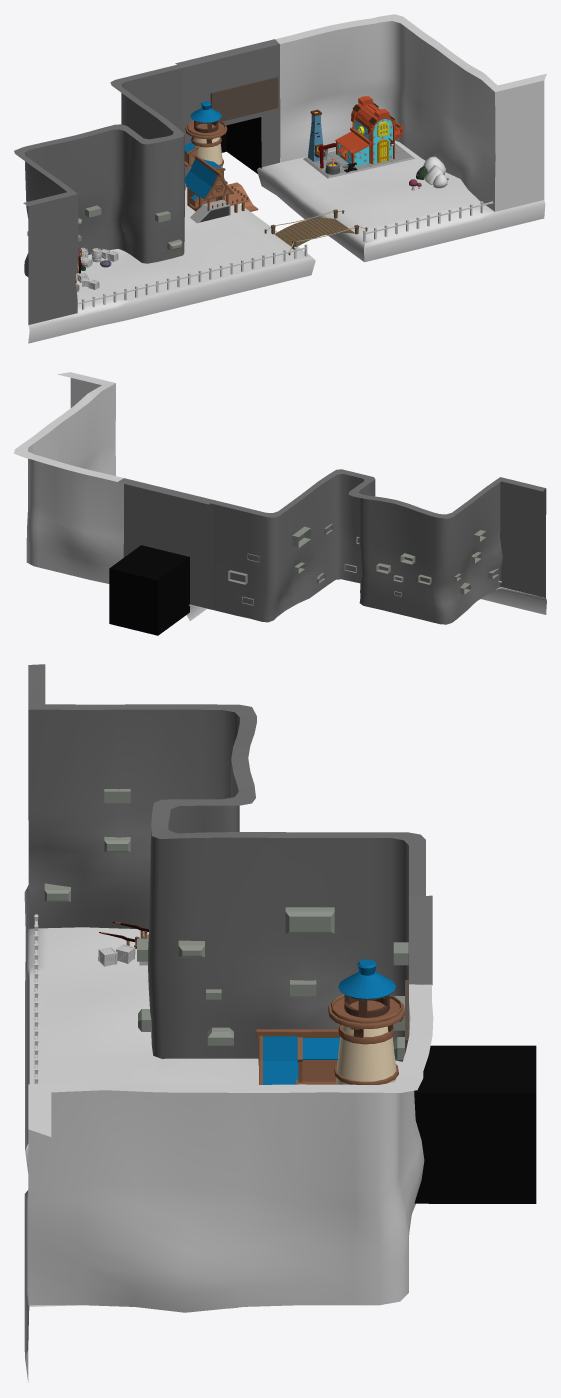
File: CenaPrincipal.fbx
3 renders of one model, top to bottom at view 1: azimuth 30°, elevation 25°; view 2: azimuth 150°, elevation 25°; view 3: azimuth 270°, elevation 25°, orthographic. The views are drawn at different scales.
Parts seen in each view (by area): view 1: Cenario.002, Cenario, Cenario.001, EntradaCaverna, Torre, Ferraria, Ponte, Cerca.E, Cerca.D, Forno; view 2: Cenario.001, Cenario.002, EntradaCaverna, Cenario; view 3: Cenario.001, Cenario.002, Cenario, EntradaCaverna, Torre.
Boxes of the visible parts, x1,y1,x2,y2 form: Cenario.002: [275, 14, 546, 211]; Cenario: [28, 141, 545, 343]; Cenario.001: [14, 64, 186, 324]; EntradaCaverna: [175, 39, 280, 177]; Torre: [184, 101, 258, 223]; Ferraria: [303, 96, 414, 178]; Ponte: [264, 209, 367, 255]; Cerca.E: [77, 244, 307, 309]; Cerca.D: [363, 201, 493, 241]; Forno: [308, 109, 325, 161]; Cenario.001: [210, 469, 546, 624]; Cenario.002: [14, 372, 123, 583]; EntradaCaverna: [109, 478, 213, 635]; Cenario: [187, 587, 546, 620]; Cenario.001: [28, 664, 425, 1061]; Cenario.002: [28, 984, 433, 1312]; Cenario: [24, 885, 415, 1382]; EntradaCaverna: [405, 895, 536, 1203]; Torre: [256, 959, 404, 1084].
Bounding box in the file's own units: 8506 × 2163 × 3889.
